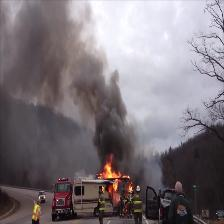fire: (100, 158, 118, 178)
smoke: (14, 16, 84, 77), (89, 85, 126, 153)
